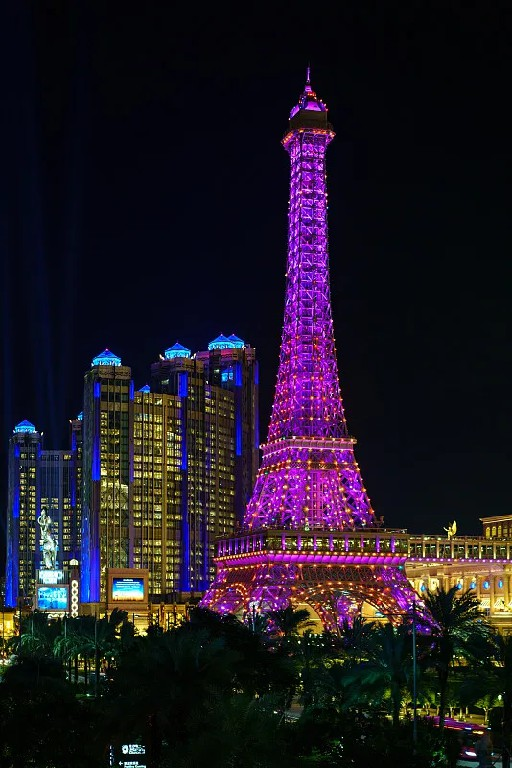Eiffel: (194, 61, 427, 625)
